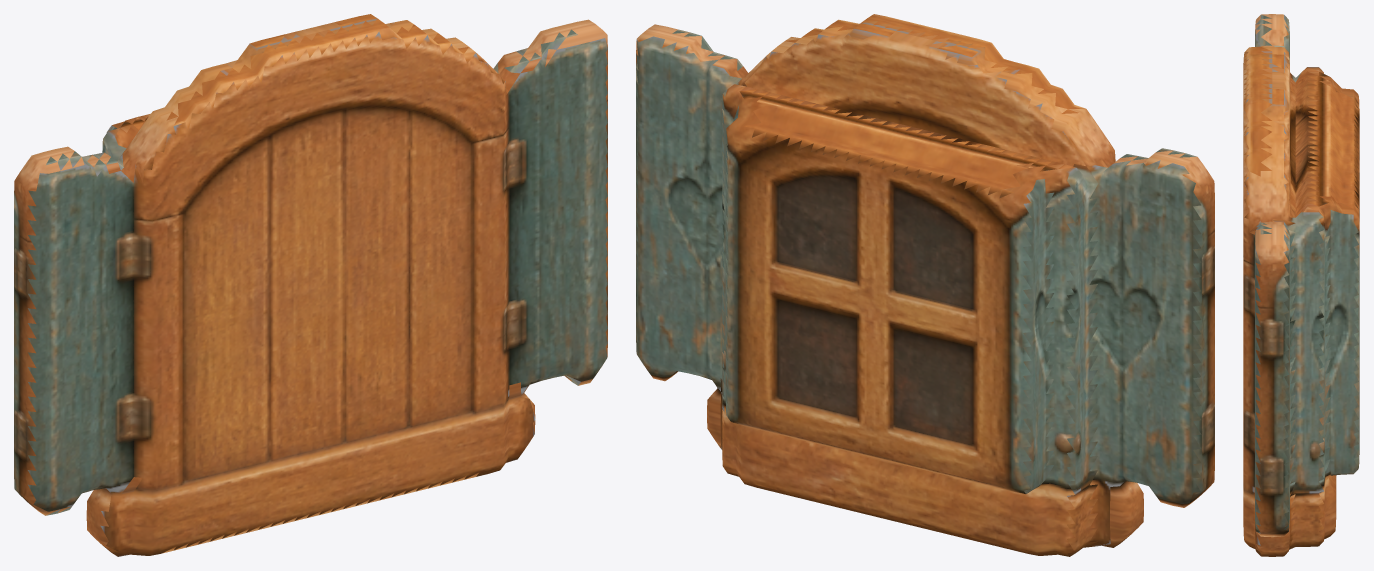
File: house-window.glb
The picture shows the model from 3 angles, left to right: view 1: azimuth 30°, elevation 25°; view 2: azimuth 150°, elevation 25°; view 3: azimuth 270°, elevation 25°; orthographic projection. The views are drawn at different scales.
Size of the model in its own units: 1.29 by 1 by 0.2644.
Materials: 1 (1 with a texture image).
